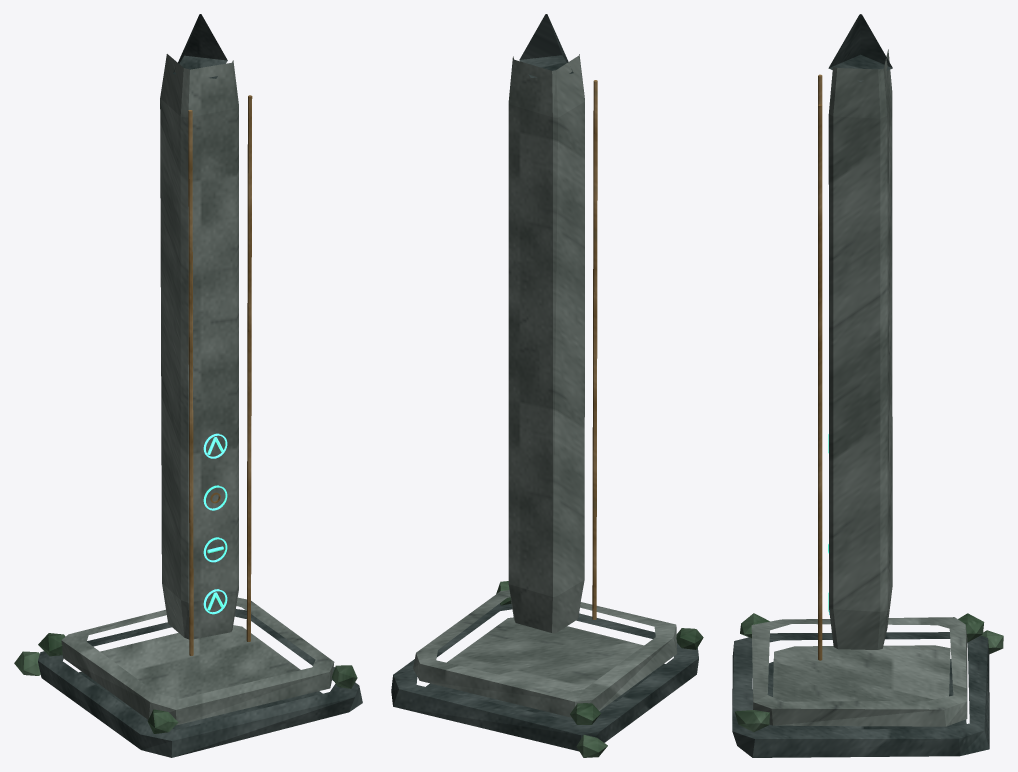
File: 0500_obelisk_25.glb
3 renders of one model, left to right at view 1: azimuth 30°, elevation 25°; view 2: azimuth 150°, elevation 25°; view 3: azimuth 270°, elevation 25°, orthographic. The views are drawn at different scales.
Visible parts, largest first — view 1: stone, stone_dark, brass, moss, glow; view 2: stone, stone_dark, brass, moss; view 3: stone, stone_dark, brass, moss.
Part boxes in pixels (x1,y1,x2,y2): stone: (61, 54, 334, 725); stone_dark: (38, 14, 362, 757); brass: (188, 95, 252, 655); moss: (14, 633, 357, 733); glow: (203, 433, 227, 614); stone: (413, 54, 677, 717); stone_dark: (391, 14, 698, 751); brass: (592, 80, 597, 619); moss: (496, 581, 703, 757); stone: (751, 49, 967, 726); stone_dark: (732, 14, 989, 757); brass: (818, 74, 822, 660); moss: (734, 613, 1003, 732).
Size of the model in its own units: 2 by 5.65 by 2.01.
5 materials, 5 textured.
